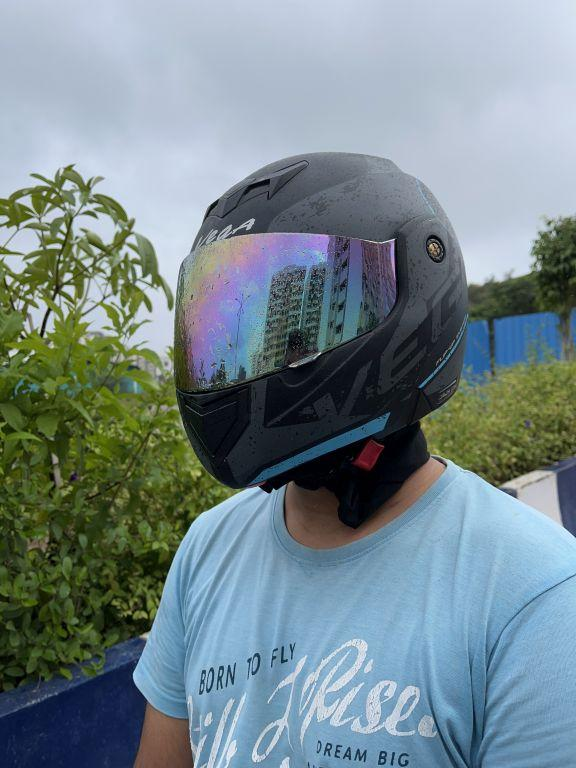helmet: (165, 134, 472, 515)
